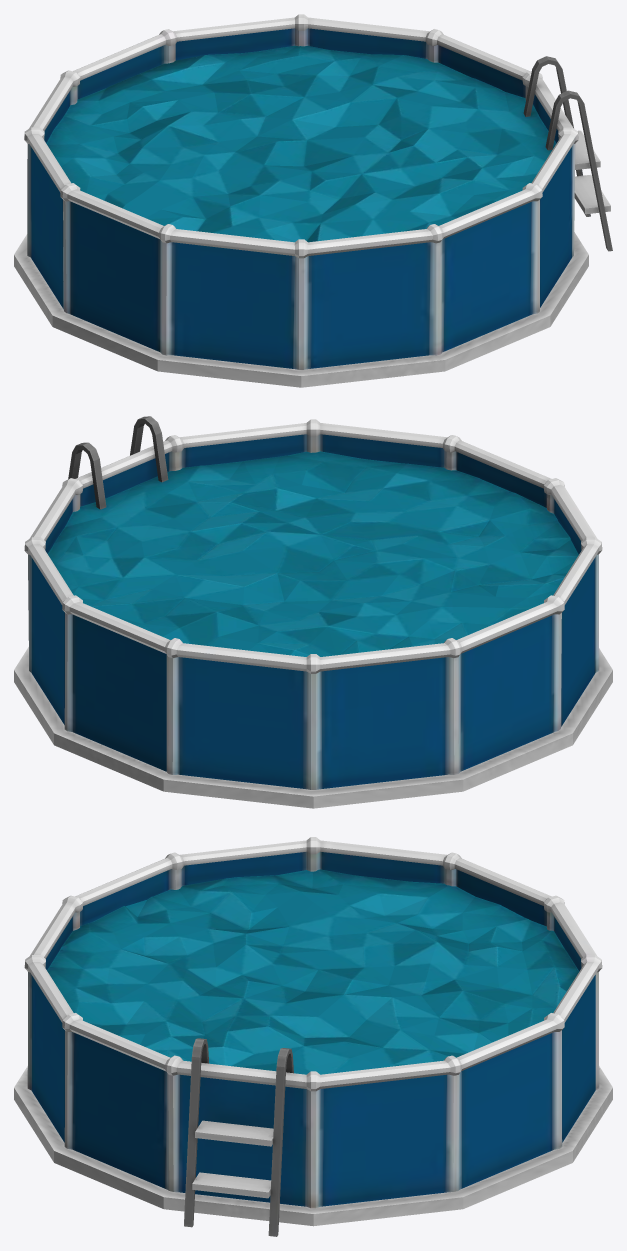
Rendered from 2R5gjVusWRN.glb.
3 views of the same model, one above another, from view 1: azimuth 30°, elevation 25°; view 2: azimuth 150°, elevation 25°; view 3: azimuth 270°, elevation 25° (orthographic). The views are drawn at different scales.
Visible parts, largest first — view 1: AboveGroundSwimingPool_mesh; view 2: AboveGroundSwimingPool_mesh; view 3: AboveGroundSwimingPool_mesh.
Boxes of the visible parts, x1,y1,x2,y2 form: AboveGroundSwimingPool_mesh: (14,14,612,387); AboveGroundSwimingPool_mesh: (14,416,612,808); AboveGroundSwimingPool_mesh: (14,837,612,1236).
Size of the model in its own units: 3.36 by 0.9999 by 3.22.
Materials: 1 (1 with a texture image).
